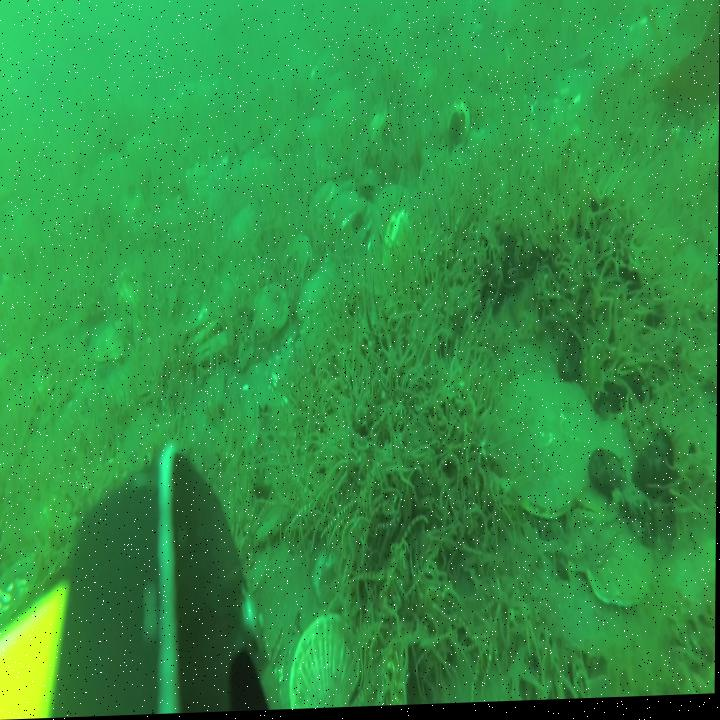scallop: (493, 380, 601, 517), (591, 510, 658, 615), (292, 619, 373, 704), (581, 424, 641, 524), (569, 476, 627, 560), (311, 540, 361, 623), (0, 558, 40, 624), (95, 319, 141, 368), (251, 289, 289, 344), (375, 183, 414, 236), (281, 235, 318, 289), (300, 265, 335, 321), (227, 211, 265, 260), (184, 310, 218, 356), (331, 195, 366, 236), (198, 332, 232, 374), (323, 86, 357, 124), (366, 105, 391, 151), (308, 185, 338, 223), (300, 119, 329, 151)
